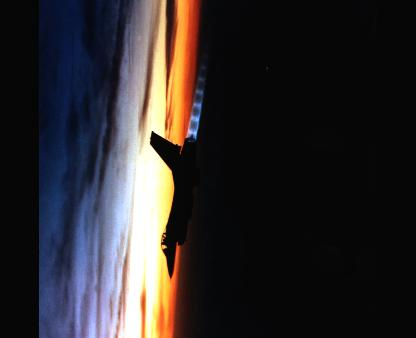F14: (150, 130, 200, 282)
